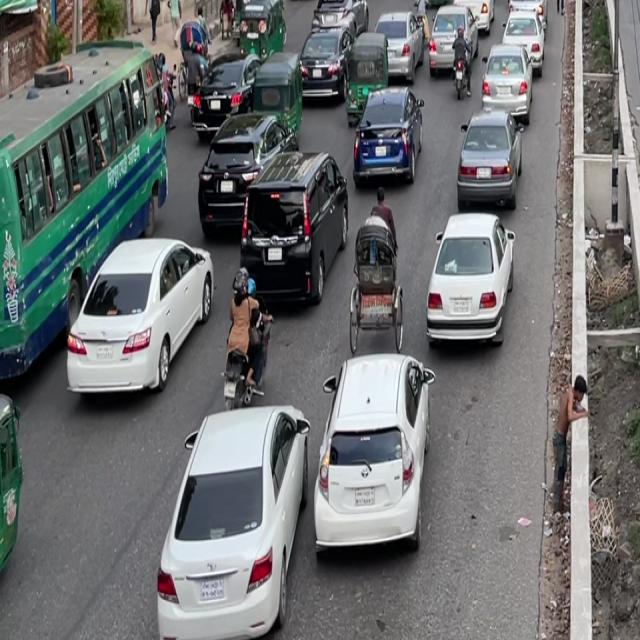car: (145, 394, 324, 631), (301, 336, 444, 572), (54, 218, 223, 414), (234, 144, 352, 316), (419, 199, 521, 365), (453, 100, 524, 220), (350, 84, 425, 196), (292, 15, 355, 110), (479, 36, 535, 128), (373, 2, 423, 82), (423, 5, 468, 86), (306, 0, 368, 56), (503, 0, 546, 73), (455, 0, 495, 38), (507, 0, 546, 13)
motorbike: (214, 272, 278, 411), (450, 28, 471, 96)
rickshaw: (0, 384, 38, 618), (343, 32, 387, 127), (249, 52, 302, 126), (423, 0, 456, 12), (284, 0, 325, 5)
